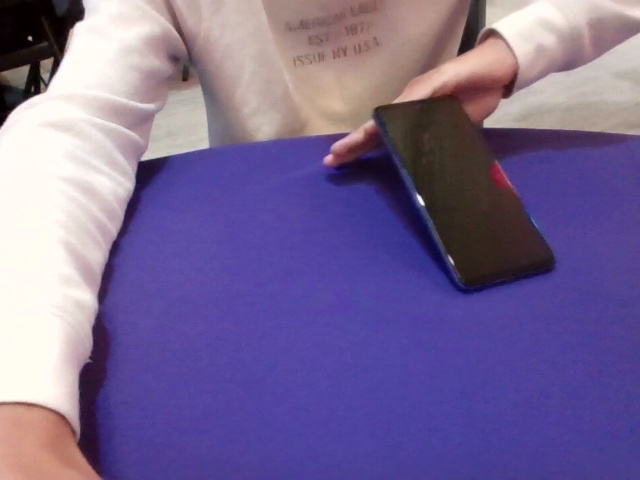celular: (375, 96, 558, 291)
